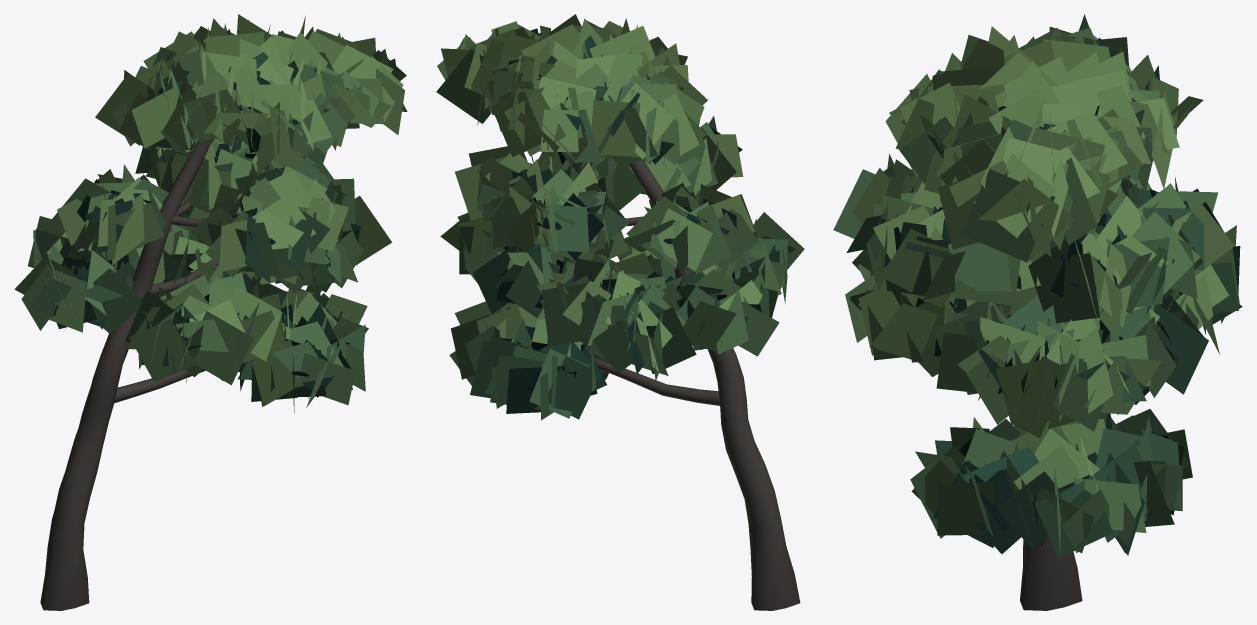
The model's file is BlackPine.fbx.
The picture shows the model from 3 angles, left to right: view 1: azimuth 30°, elevation 25°; view 2: azimuth 150°, elevation 25°; view 3: azimuth 270°, elevation 25°; orthographic projection. The views are drawn at different scales.
Parts seen in each view (by area): view 1: BlackPine; view 2: BlackPine; view 3: BlackPine.
Part boxes in pixels (left/top/right/bottom): BlackPine: left=14, top=14, right=407, bottom=610; BlackPine: left=436, top=14, right=804, bottom=610; BlackPine: left=833, top=14, right=1242, bottom=610.
Size of the model in its own units: 5.96 by 8.22 by 4.55.
